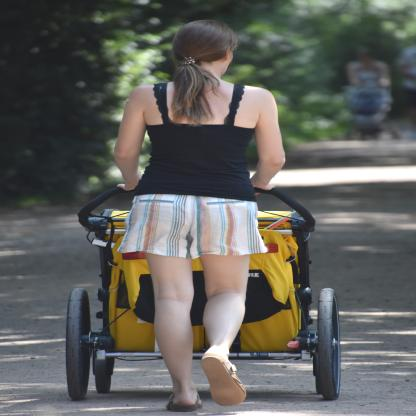jacket: (119, 179, 272, 258)
